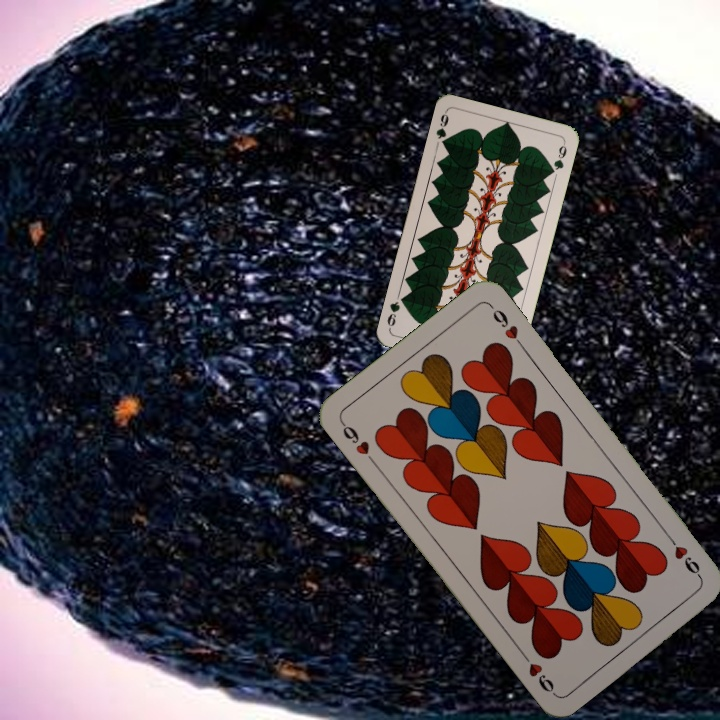G9: (432, 108, 451, 150)
H9: (337, 417, 378, 468), (664, 531, 704, 581)
